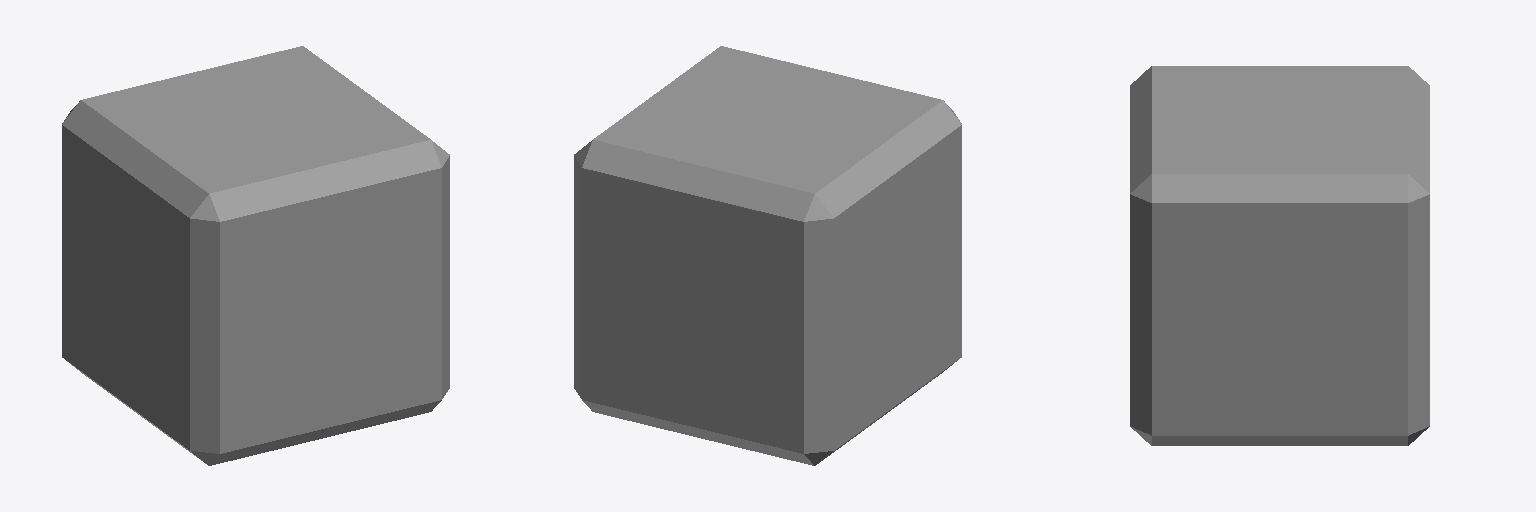
File: brick.obj
The picture shows the model from 3 angles: view 1: azimuth 30°, elevation 25°; view 2: azimuth 150°, elevation 25°; view 3: azimuth 270°, elevation 25°; orthographic projection.
Parts seen in each view (by area): view 1: default; view 2: default; view 3: default.
Part boxes in pixels (x1,y1,x2,y2): default: (62,46,449,465); default: (574,46,961,465); default: (1130,66,1429,445).
Size of the model in its own units: 1 by 1 by 1.